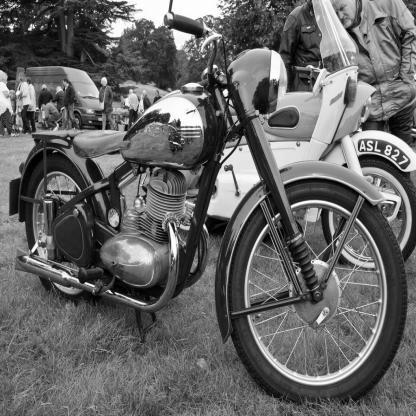moto: (23, 28, 398, 414)
